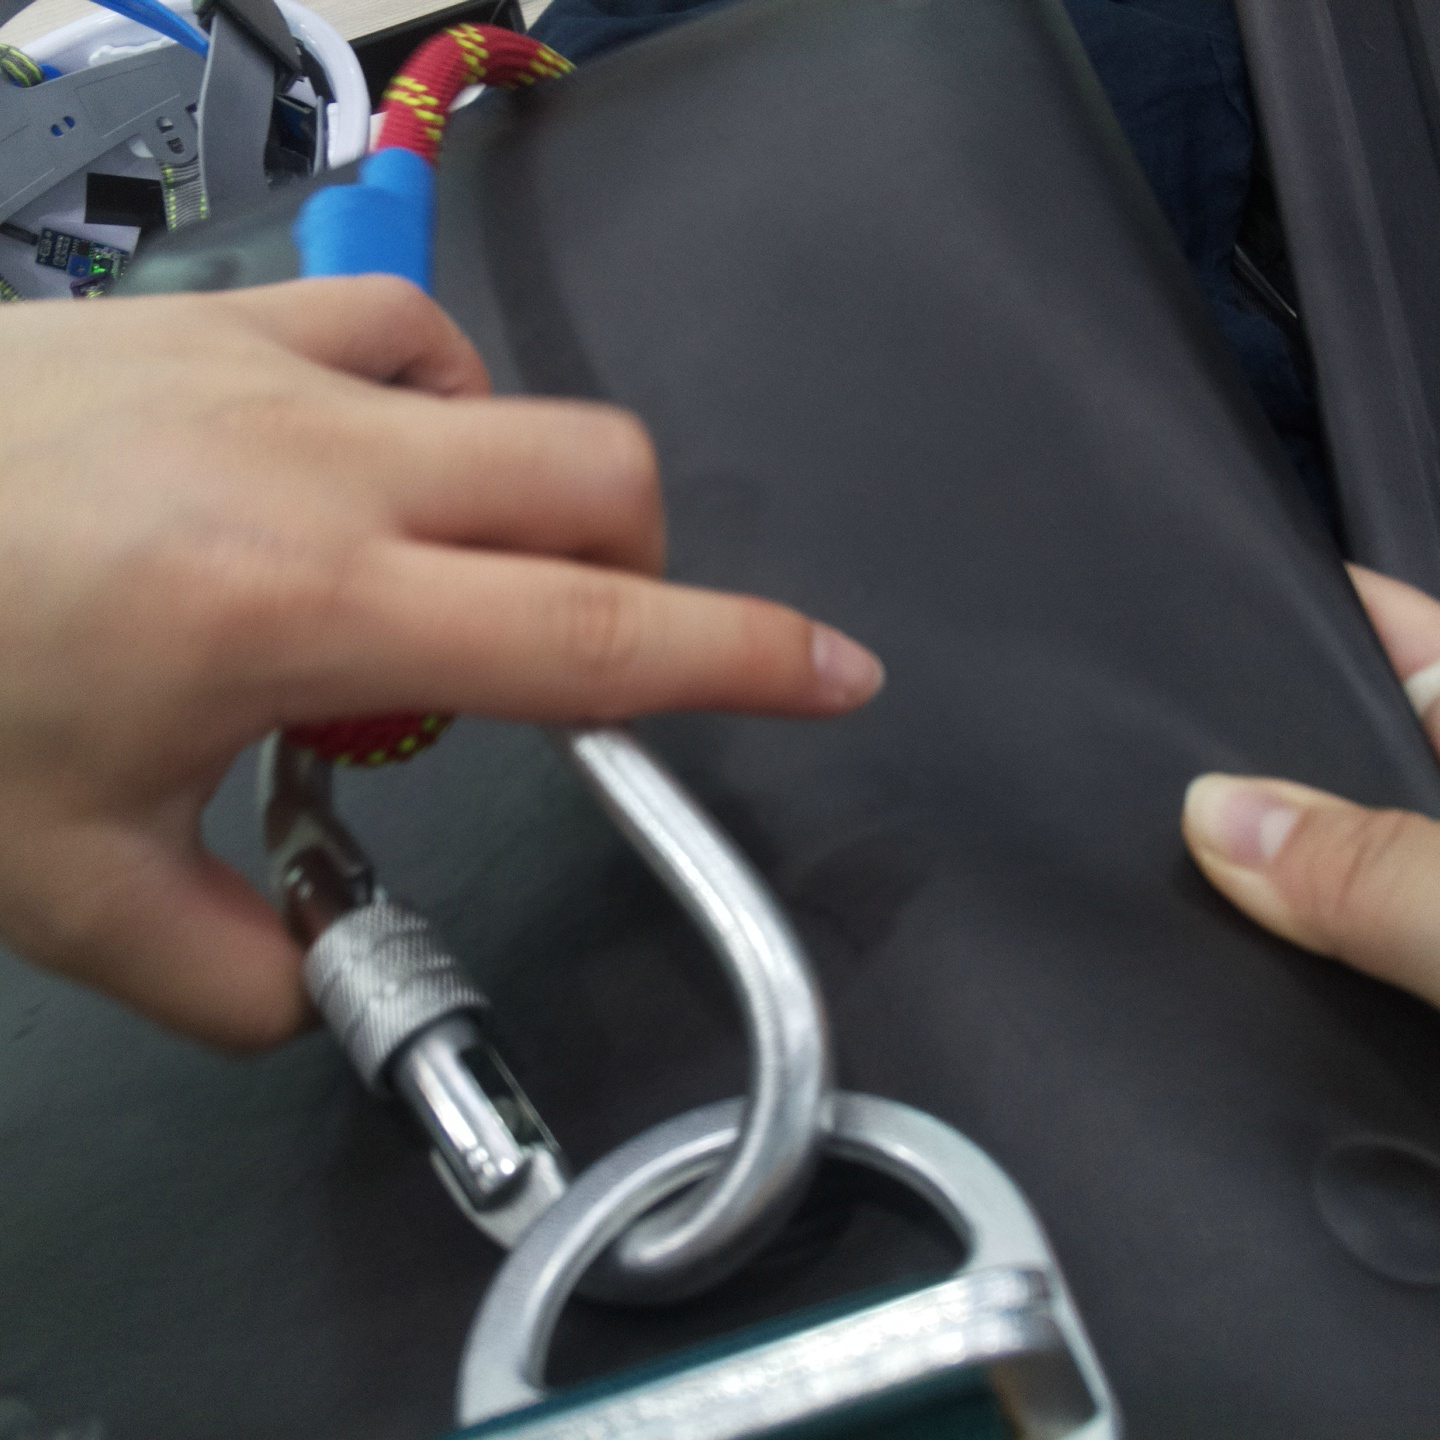SUCCESS: (330, 803, 1124, 1427)
